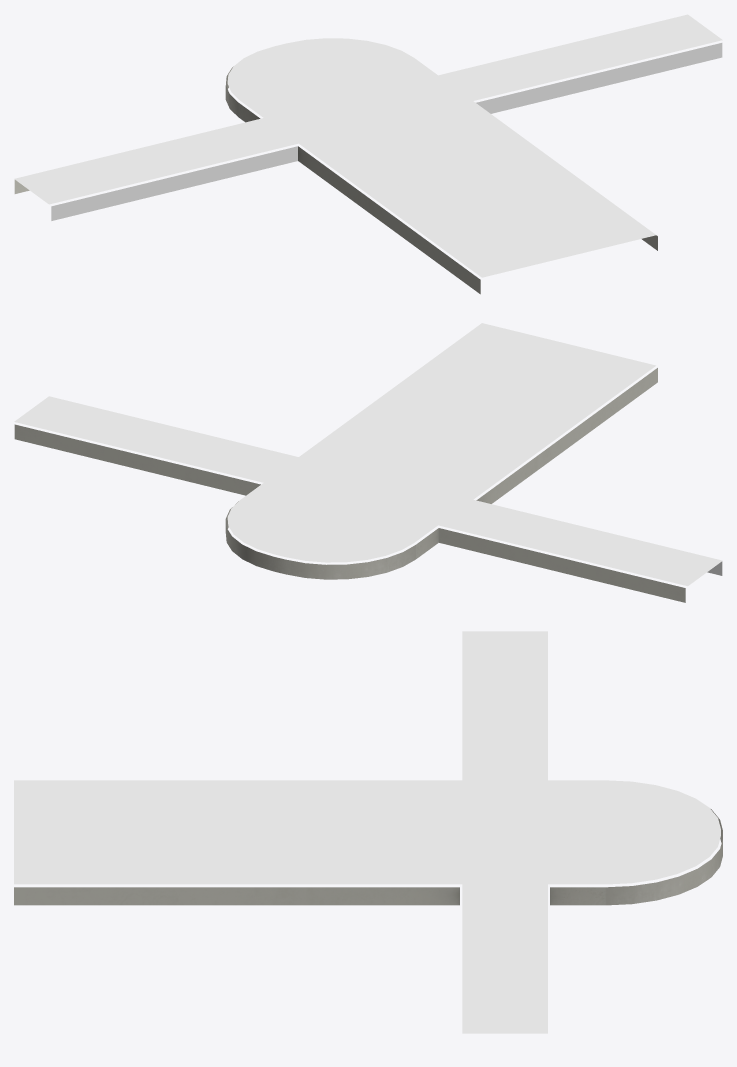
File: Catwalk.001.fbx
3 renders of one model, top to bottom at view 1: azimuth 30°, elevation 25°; view 2: azimuth 150°, elevation 25°; view 3: azimuth 270°, elevation 25°, orthographic. The views are drawn at different scales.
Visible parts, largest first — view 1: runway, runway.002; view 2: runway, runway.002; view 3: runway, runway.002.
Part boxes in pixels (x1,y1,x2,y2): runway: (225,38,657,294); runway.002: (14,14,722,220); runway: (225,323,657,579); runway.002: (14,396,722,602); runway: (14,780,722,905); runway.002: (462,631,547,1033).
Bounding box in the file's own units: 22.79 × 16.98 × 0.5295.
